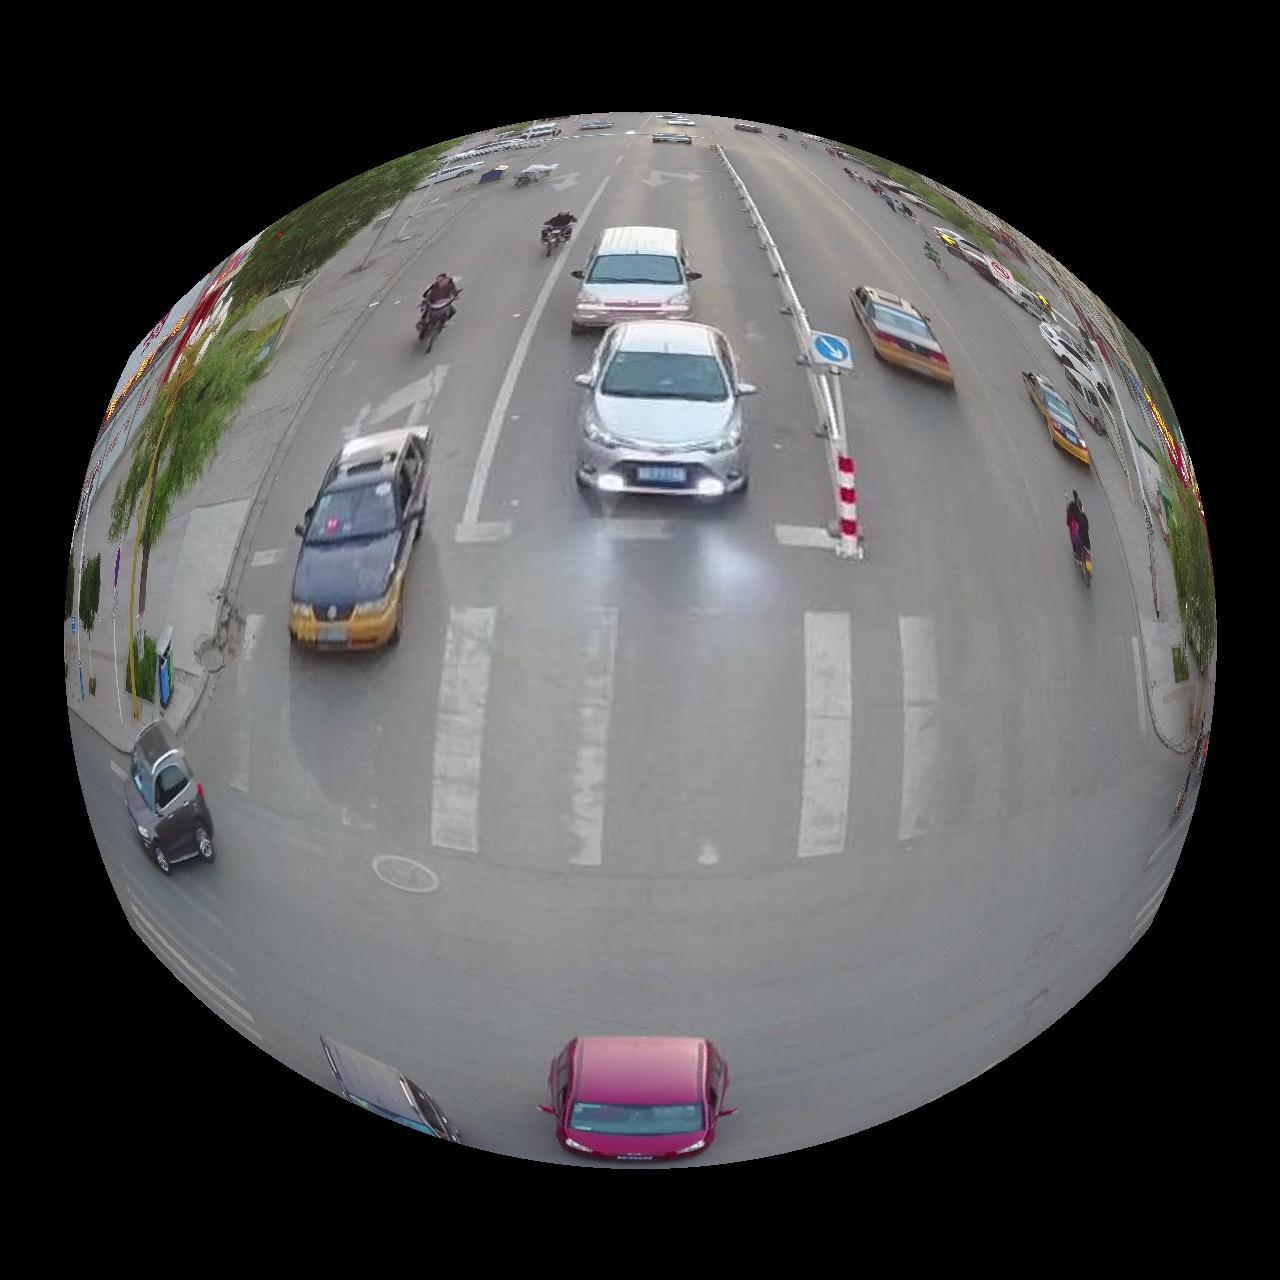cars: (576, 320, 755, 497), (290, 425, 428, 651), (551, 1039, 731, 1163), (320, 1039, 458, 1144), (123, 722, 213, 873), (572, 225, 700, 331), (853, 286, 955, 384), (1024, 372, 1091, 464)
trees: (109, 284, 302, 613), (229, 142, 447, 318)
